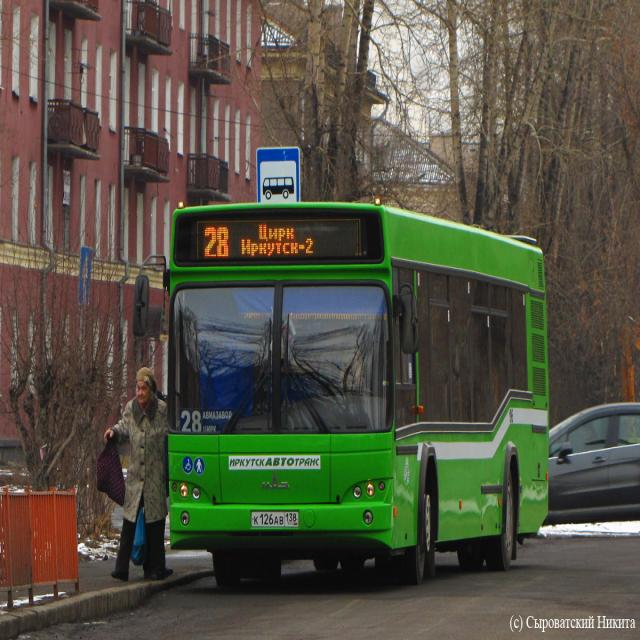number-of-bus: (202, 227, 232, 262), (180, 410, 203, 435)
